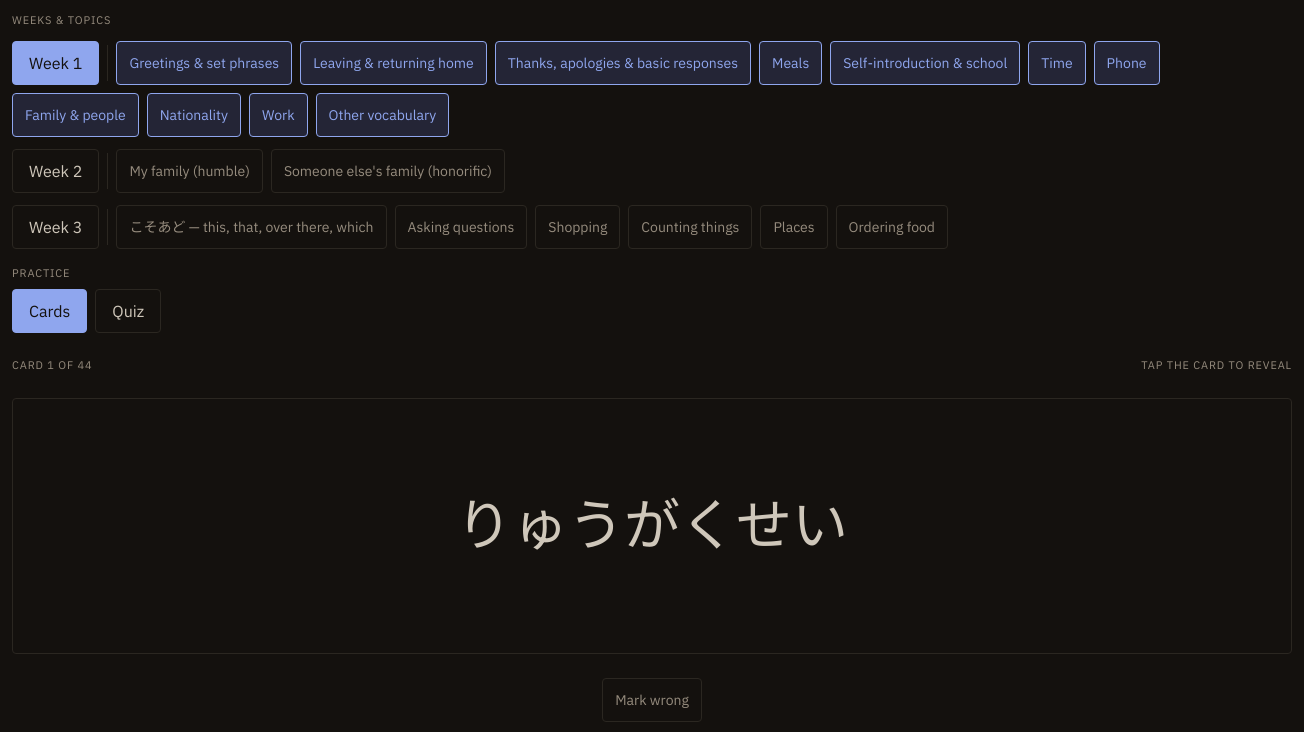
it: marking vocabulary cards › marks the card and counts it
Step 1. Click the button "Week 1" → click(56, 62), box [12,40,99,84]
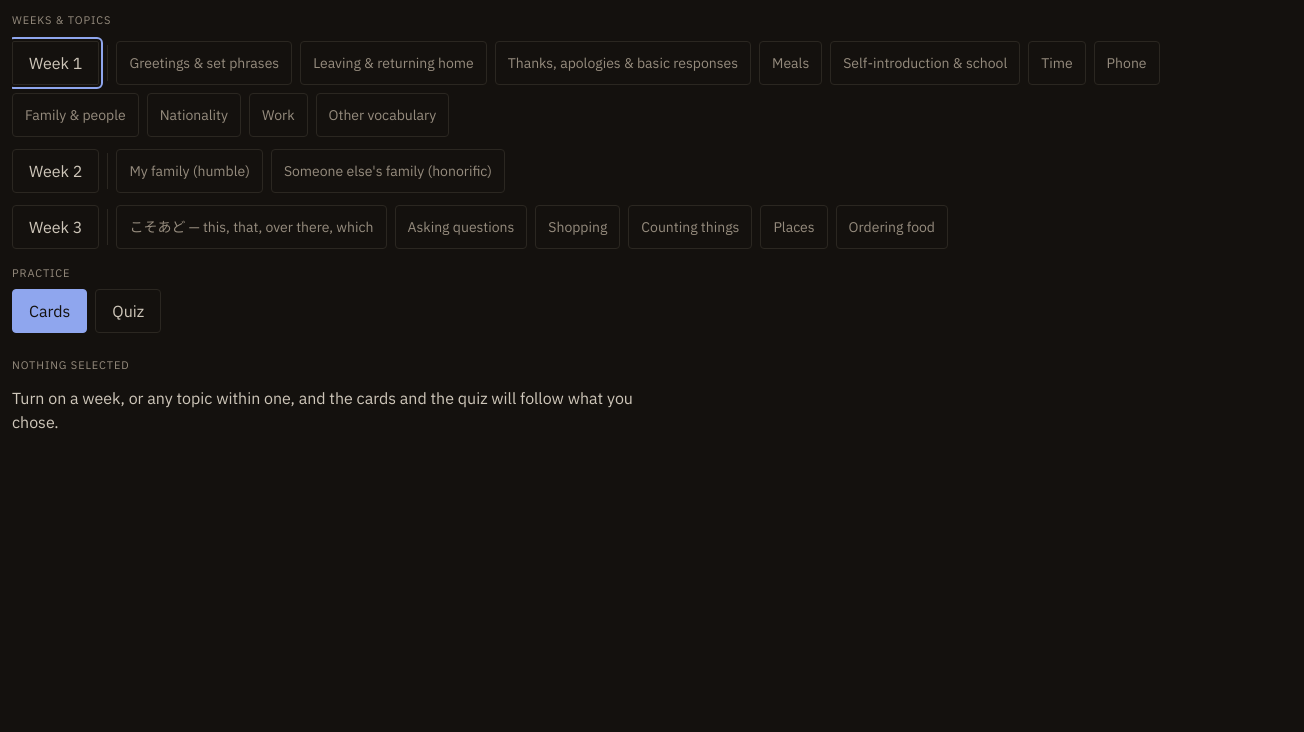
Step 2. Click the button "Leaving & returning home" → click(393, 62), box [300,40,487,84]
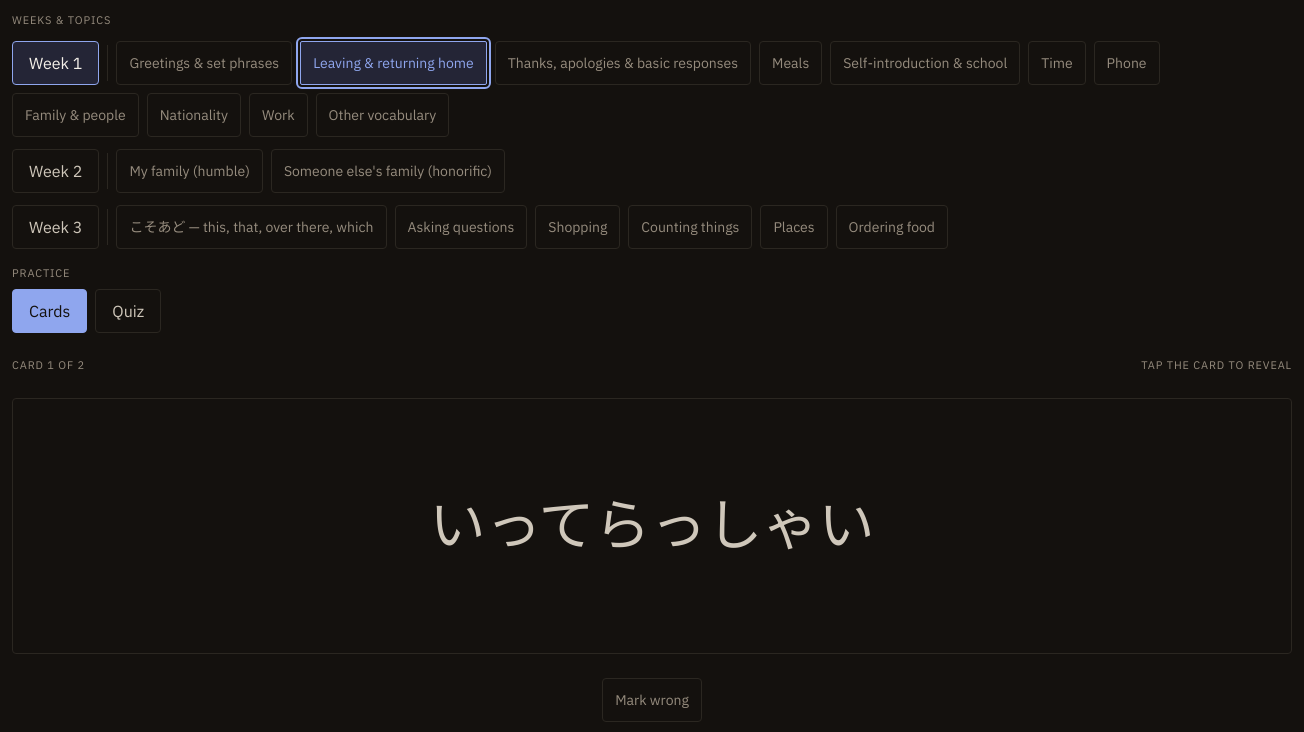
Step 3. Click the button "Mark wrong" → click(652, 700), box [602,678,702,722]
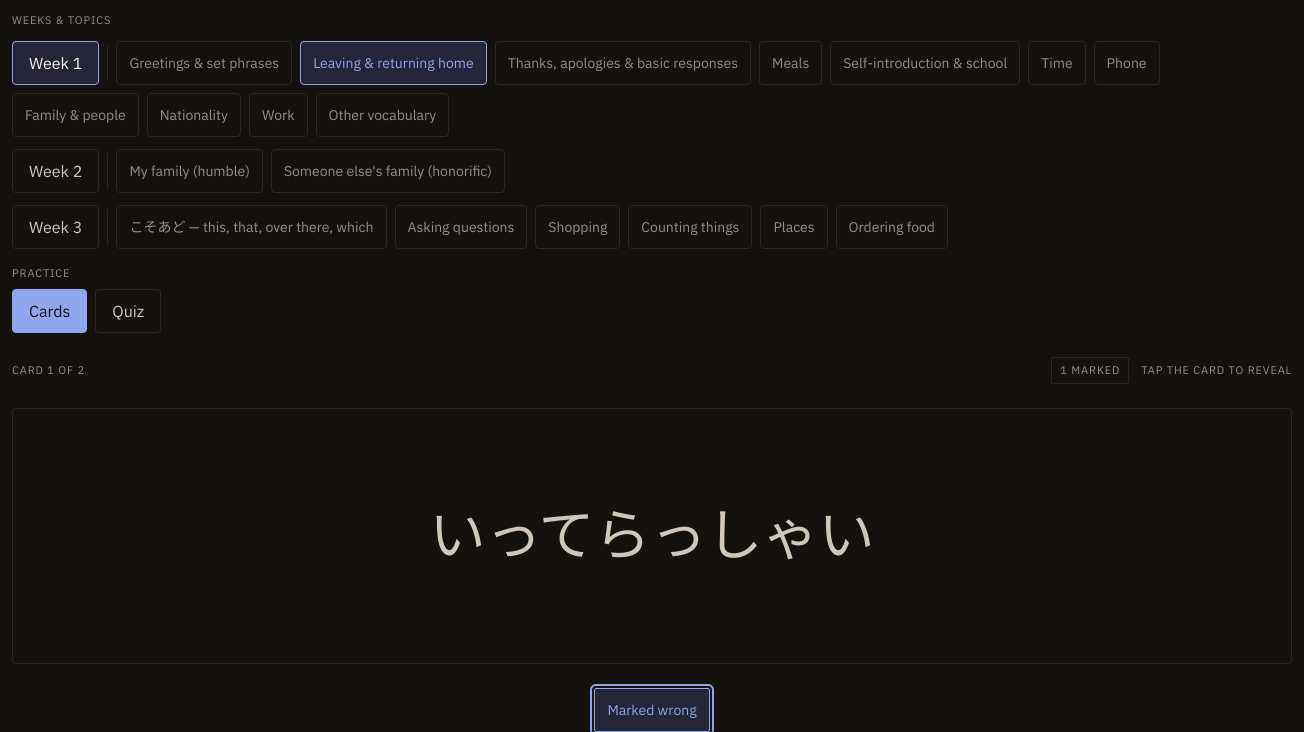
Result: the text "1 marked" is shown at [1051,357,1129,384]
